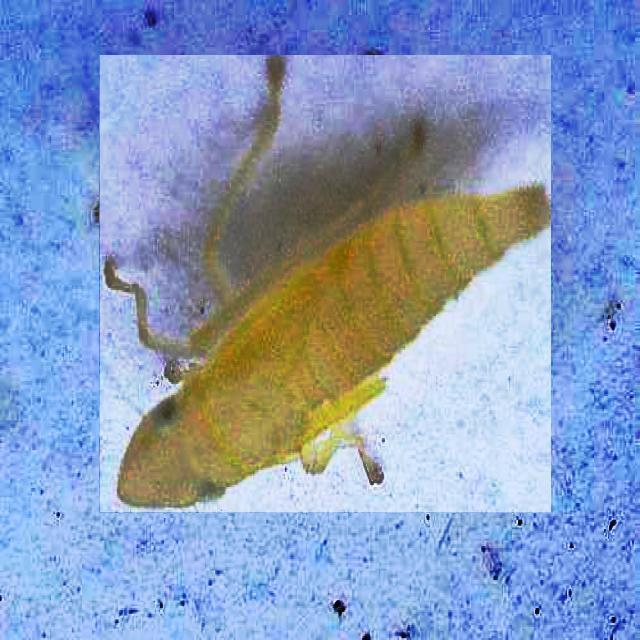green-leafhopper: (100, 56, 551, 512)
